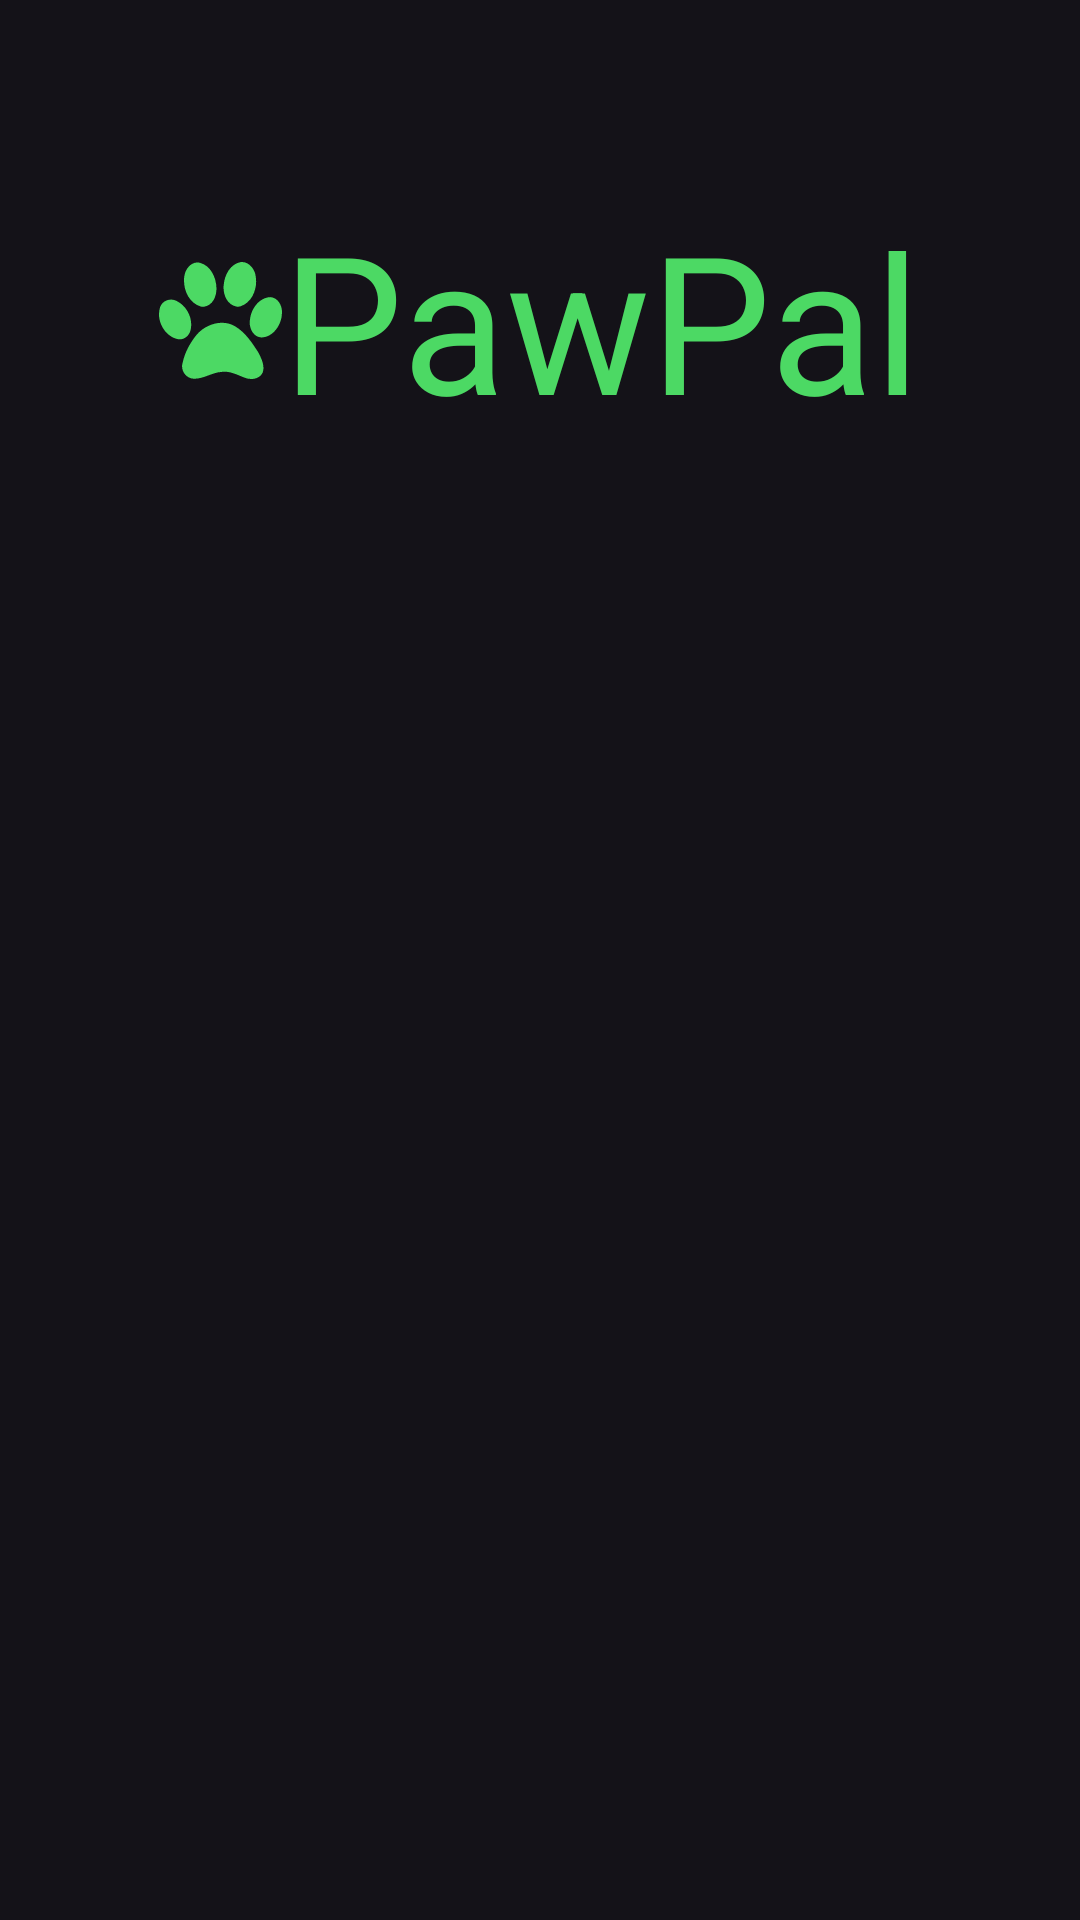

Icon bounding boxes for this 1080px x 1920px phone screenshot, format (x1, y1, x2, y2):
paw print: (159, 262, 282, 379)
